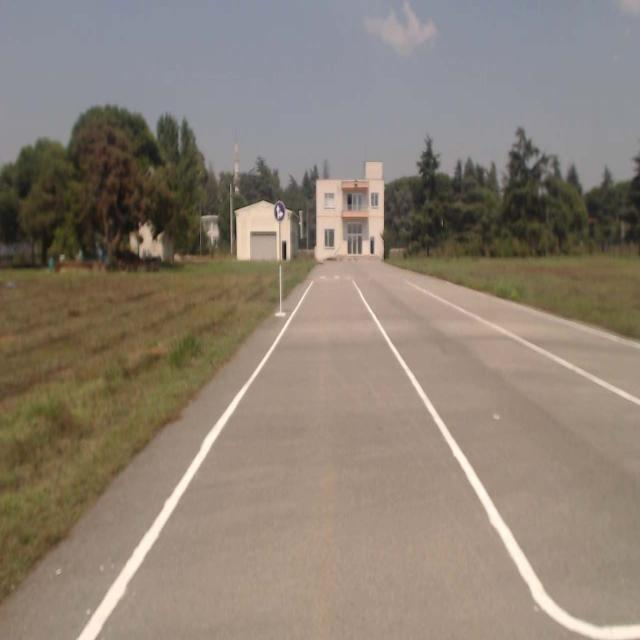ilerisag: (274, 202, 284, 220)
